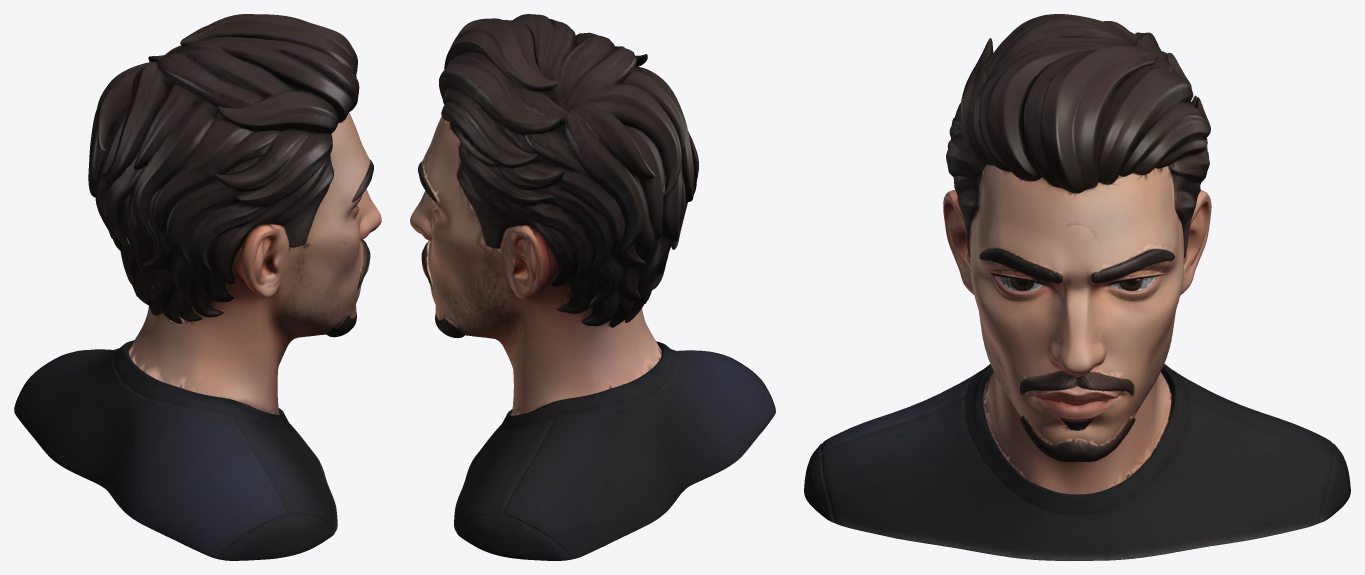
The model's file is sabri-head-source.glb.
3 renders of one model, left to right at view 1: azimuth 30°, elevation 25°; view 2: azimuth 150°, elevation 25°; view 3: azimuth 270°, elevation 25°, orthographic. The views are drawn at different scales.
Parts seen in each view (by area): view 1: tripo_node_46ca0180-0c20-43ab-a9d7-17dddab336fc; view 2: tripo_node_46ca0180-0c20-43ab-a9d7-17dddab336fc; view 3: tripo_node_46ca0180-0c20-43ab-a9d7-17dddab336fc.
Boxes of the visible parts, <box> form: tripo_node_46ca0180-0c20-43ab-a9d7-17dddab336fc: <box>14,14,381,560</box>; tripo_node_46ca0180-0c20-43ab-a9d7-17dddab336fc: <box>410,14,775,560</box>; tripo_node_46ca0180-0c20-43ab-a9d7-17dddab336fc: <box>804,14,1350,560</box>.
Bounding box in the file's own units: 0.702 × 0.9999 × 0.9965.
1 material, 1 textured.
